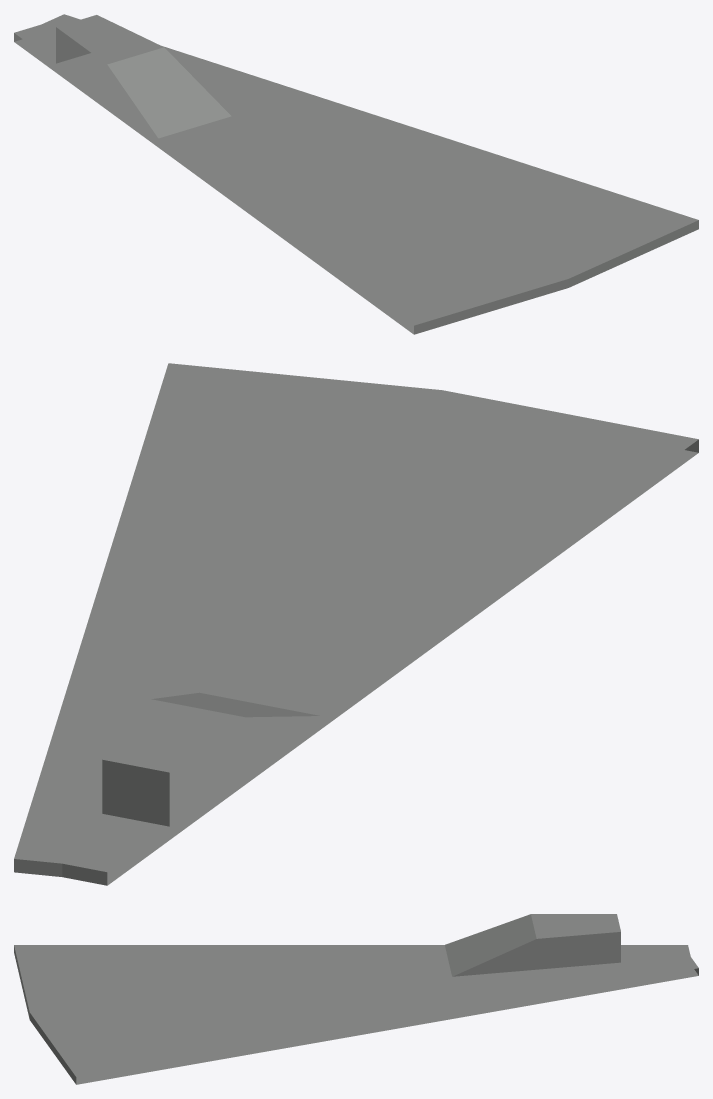
Rendered from middle_08.obj.
3 views of the same model, one above another, from view 1: azimuth 30°, elevation 25°; view 2: azimuth 150°, elevation 25°; view 3: azimuth 270°, elevation 25° (orthographic). The views are drawn at different scales.
Visible parts, largest first — view 1: Cylinder.020; view 2: Cylinder.020; view 3: Cylinder.020.
Boxes of the visible parts, bbox=[...] form: Cylinder.020: bbox=[14, 14, 698, 334]; Cylinder.020: bbox=[14, 363, 698, 885]; Cylinder.020: bbox=[14, 914, 698, 1084].
Size of the model in its own units: 14.74 by 2 by 32.26.
